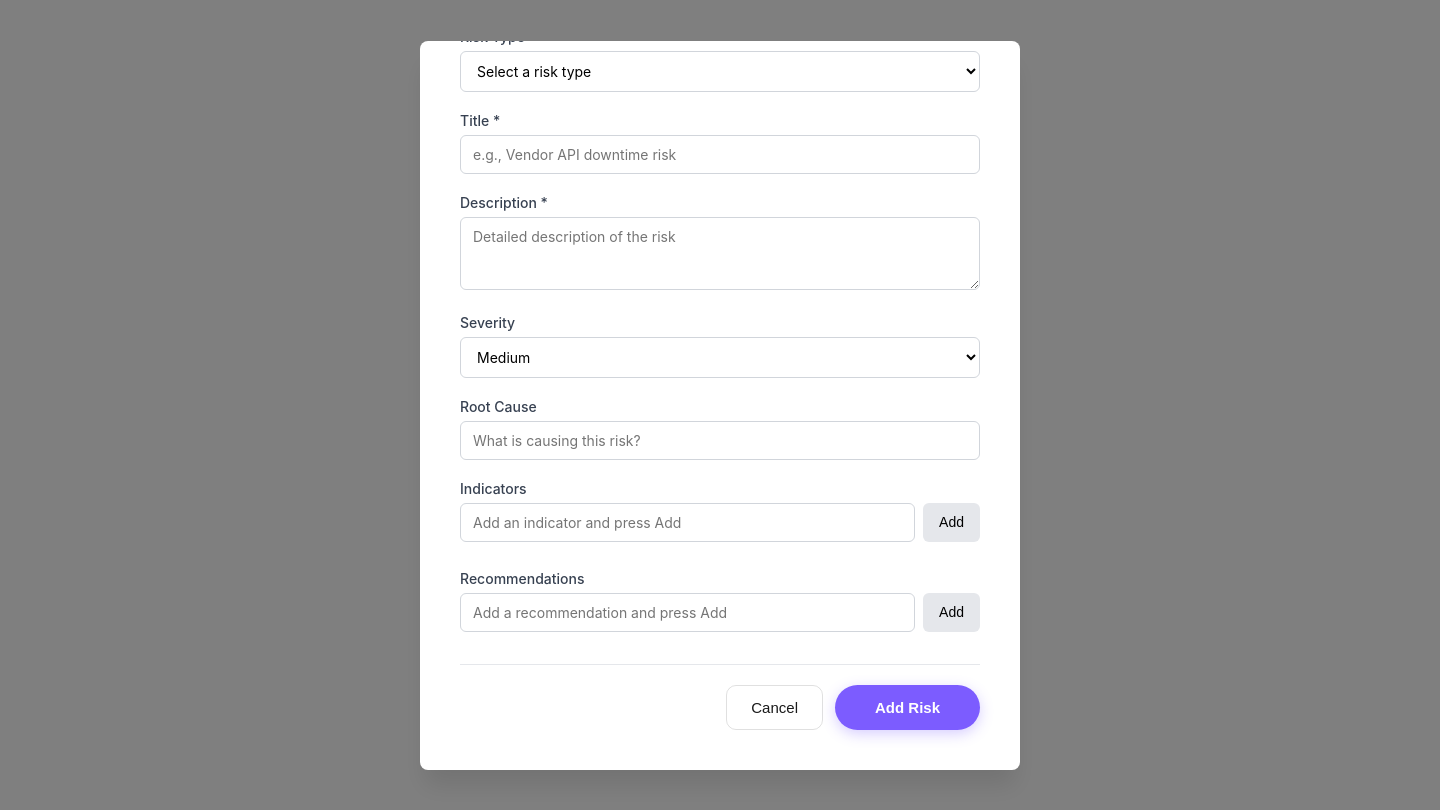
it: ManualRiskForm Component › Add Mode › should show validation errors for required fields
The width and height of the screenshot is (1440, 810).
(page scrolled)
Click the button "Add Risk".
click(908, 707)  # box [835,684,980,730]
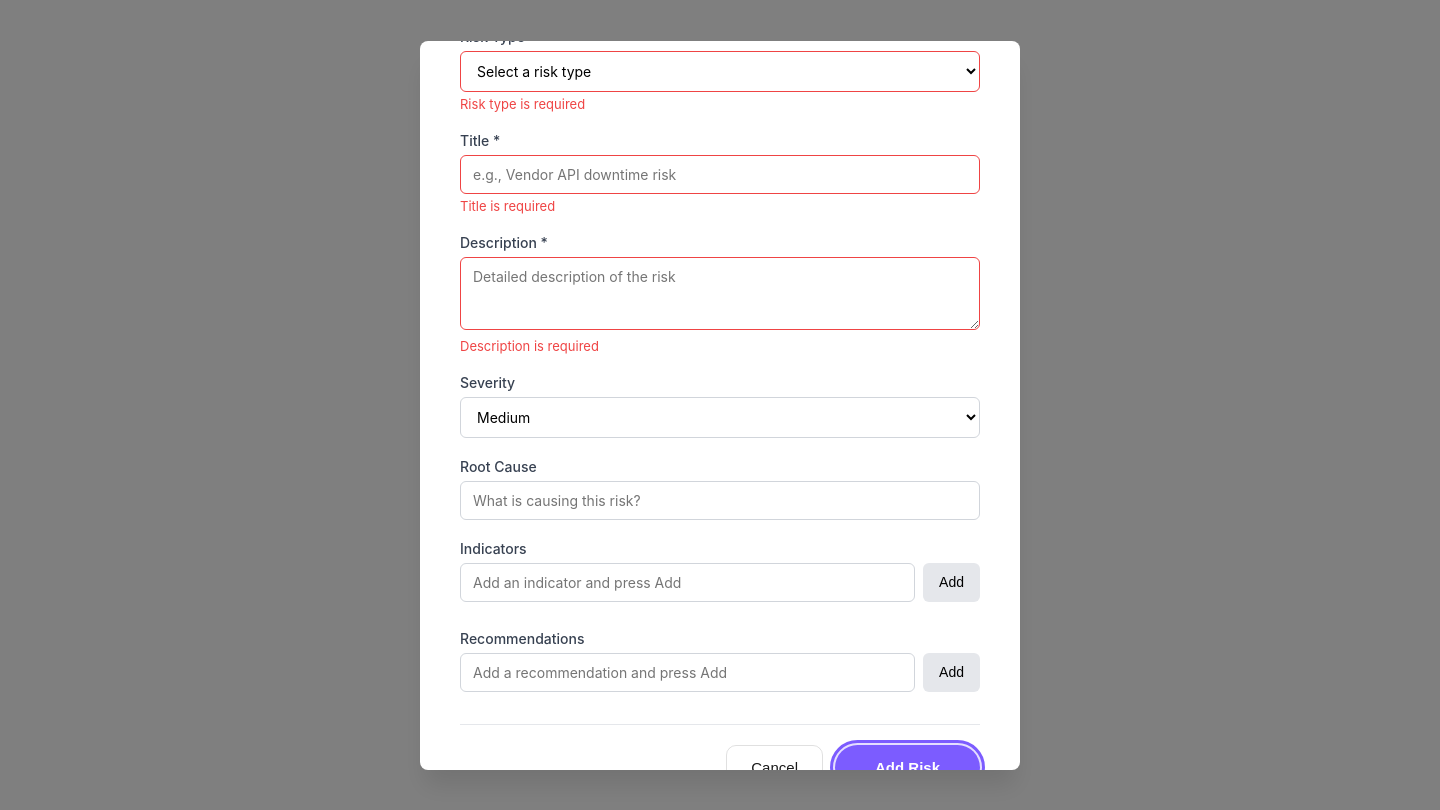
Expected: the text "Risk type is required" is shown, [460,96,585,112]
Expected: the text "Title is required" is shown, [460,198,555,214]
Expected: the text "Description is required" is shown, [460,338,599,354]
